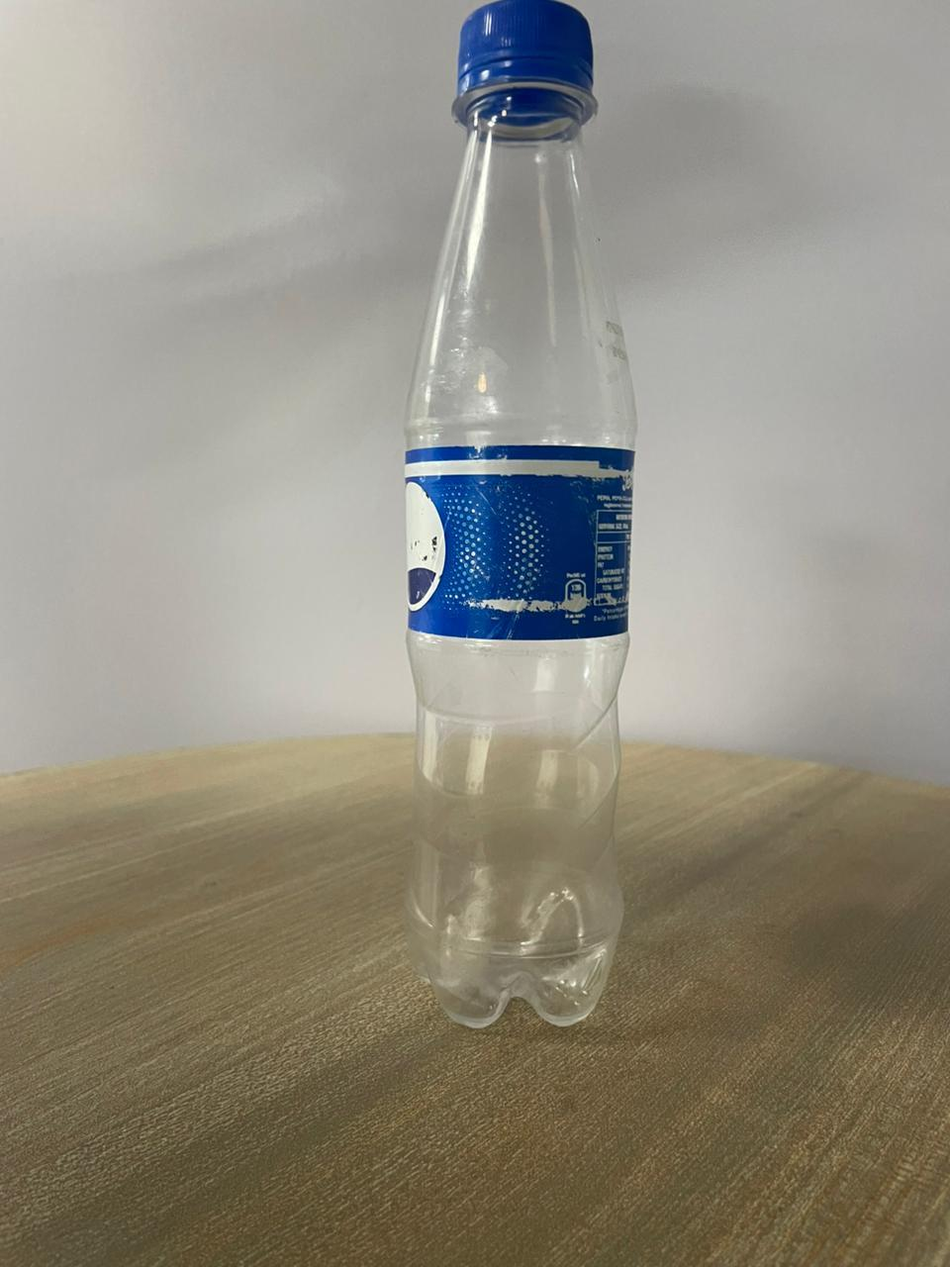Pepsi Bottle: (391, 0, 661, 1051), (391, 0, 657, 1047)
